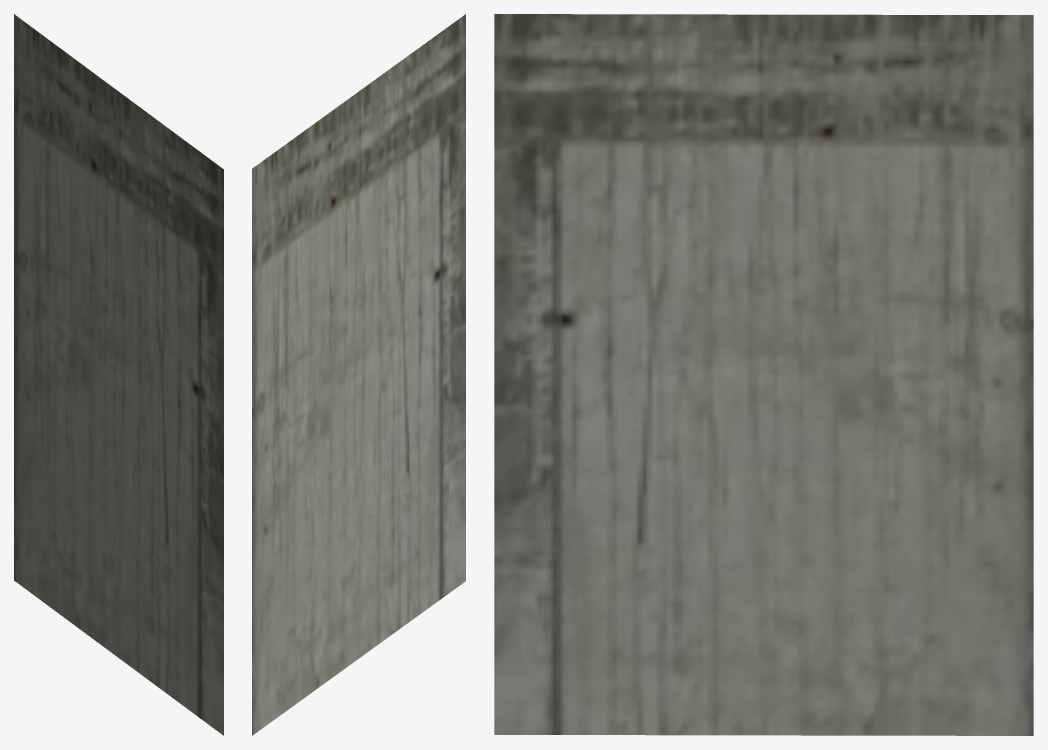
3 views of the same model, side by side, from view 1: azimuth 30°, elevation 25°; view 2: azimuth 150°, elevation 25°; view 3: azimuth 270°, elevation 25° (orthographic). The views are drawn at different scales.
Parts seen in each view (by area): view 1: SM_HK_03_02; view 2: SM_HK_03_02; view 3: SM_HK_03_02.
Boxes of the visible parts, x1,y1,x2,y2 form: SM_HK_03_02: (14, 14, 223, 735); SM_HK_03_02: (252, 14, 465, 735); SM_HK_03_02: (494, 14, 1033, 735).
Size of the model in its own units: 1.17 by 339 by 230.
